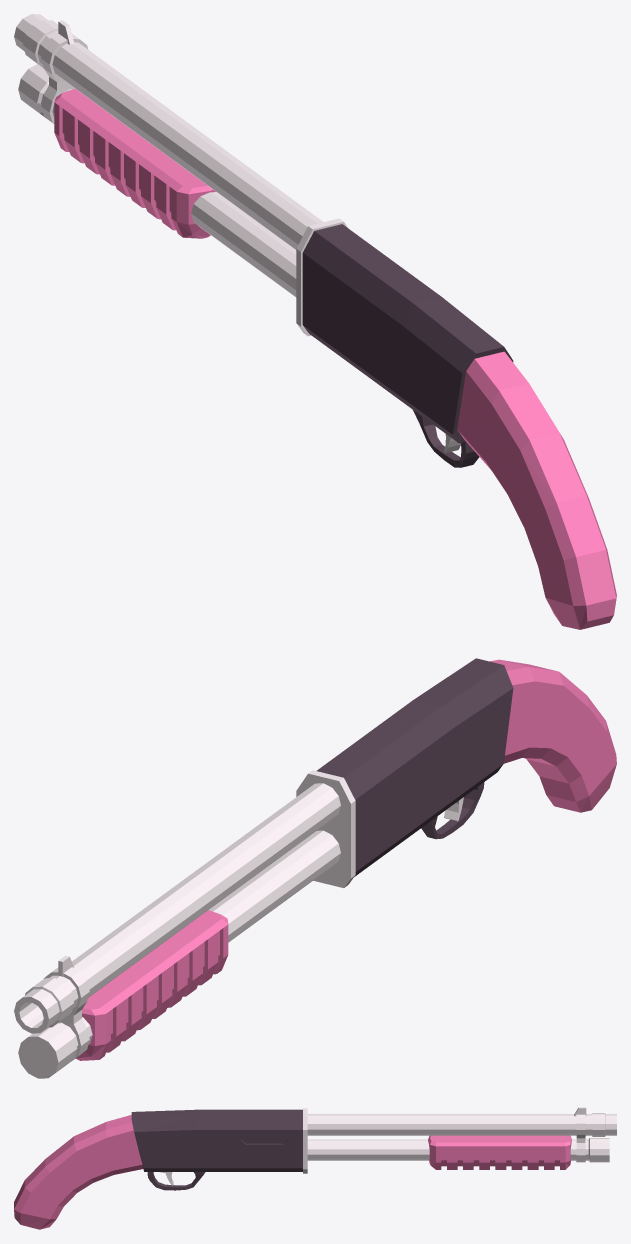
File: Shotgun_ShortStock.obj
3 renders of one model, top to bottom at view 1: azimuth 30°, elevation 25°; view 2: azimuth 150°, elevation 25°; view 3: azimuth 270°, elevation 25°, orthographic. The views are drawn at different scales.
Parts seen in each view (by area): view 1: Hardware, Body, Grip, Pump; view 2: Body, Hardware, Grip, Pump; view 3: Body, Hardware, Grip, Pump.
Part boxes in pixels (<box>): Hardware: <box>302,224,513,467</box>; Body: <box>14,14,460,453</box>; Grip: <box>457,351,616,629</box>; Pump: <box>54,88,215,238</box>; Body: <box>14,770,463,1078</box>; Hardware: <box>317,658,513,876</box>; Grip: <box>489,659,616,812</box>; Pump: <box>76,910,228,1060</box>; Body: <box>160,1107,616,1185</box>; Hardware: <box>131,1109,302,1190</box>; Grip: <box>14,1115,143,1229</box>; Pump: <box>428,1135,571,1169</box>.
Bounding box in the file's own units: 0.2867 × 1.12 × 5.2.
